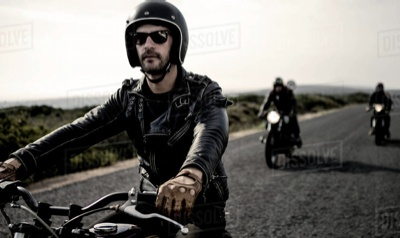helmet: (124, 1, 190, 81)
